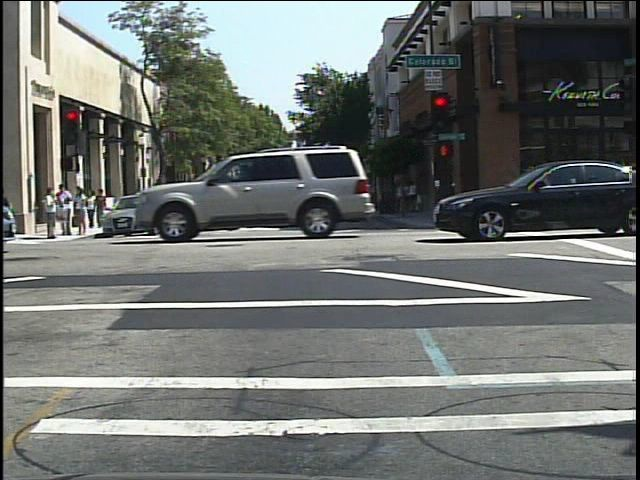person: (177, 181, 194, 217), (86, 187, 98, 230), (132, 185, 147, 215)
